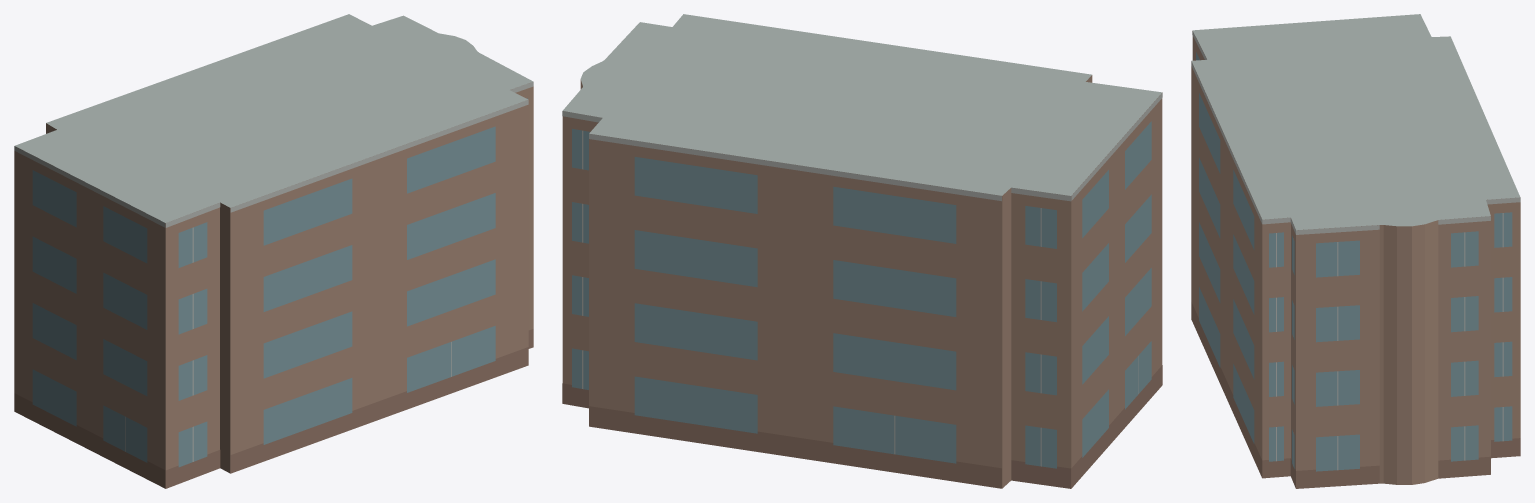
Rendered from survey-upis-32835628.glb.
3 renders of one model, left to right at view 1: azimuth 30°, elevation 25°; view 2: azimuth 150°, elevation 25°; view 3: azimuth 270°, elevation 25°, orthographic. The views are drawn at different scales.
Visible parts, largest first — view 1: survey-upis-32835628.tmp; view 2: survey-upis-32835628.tmp; view 3: survey-upis-32835628.tmp.
Boxes of the visible parts, left/top/right/bottom form: survey-upis-32835628.tmp: left=14, top=14, right=533, bottom=488; survey-upis-32835628.tmp: left=562, top=14, right=1162, bottom=488; survey-upis-32835628.tmp: left=1191, top=14, right=1520, bottom=488.
Size of the model in its own units: 23.76 by 13.25 by 15.29.
